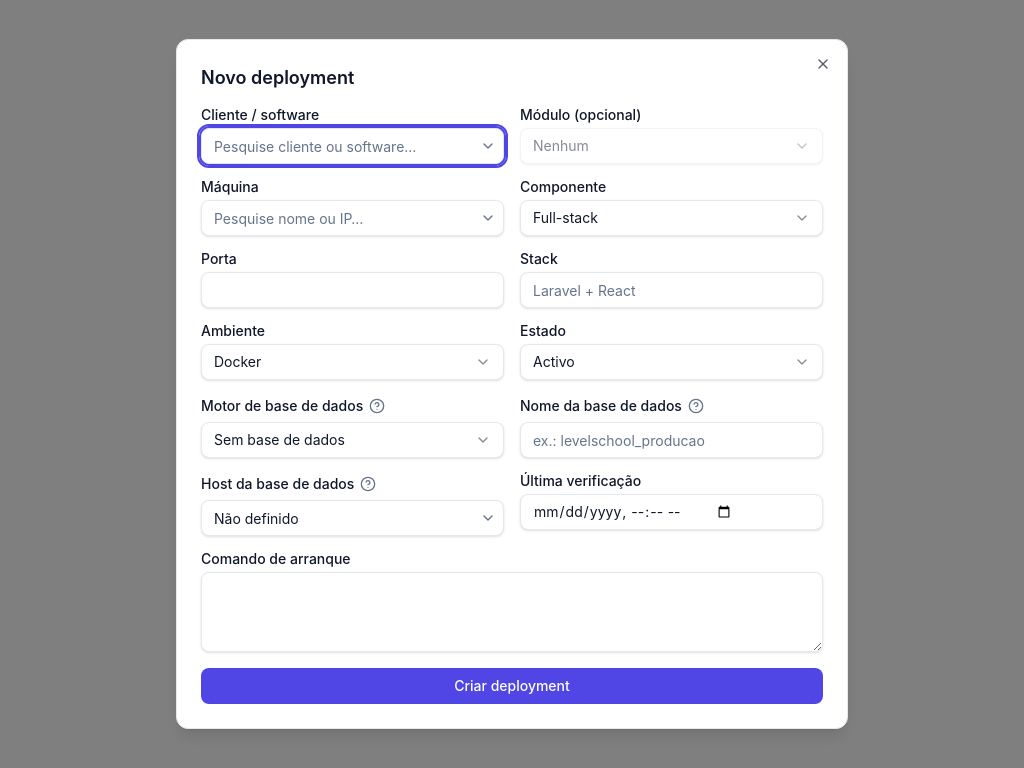
it: DeploymentFormDialog: base de dados › a máquina escolhe-se com pesquisa (lista longa)
This screenshot has width=1024, height=768.
In the dropdown labelled "Máquina": (352, 218) [201,200,504,236], type "10.10.10.25"
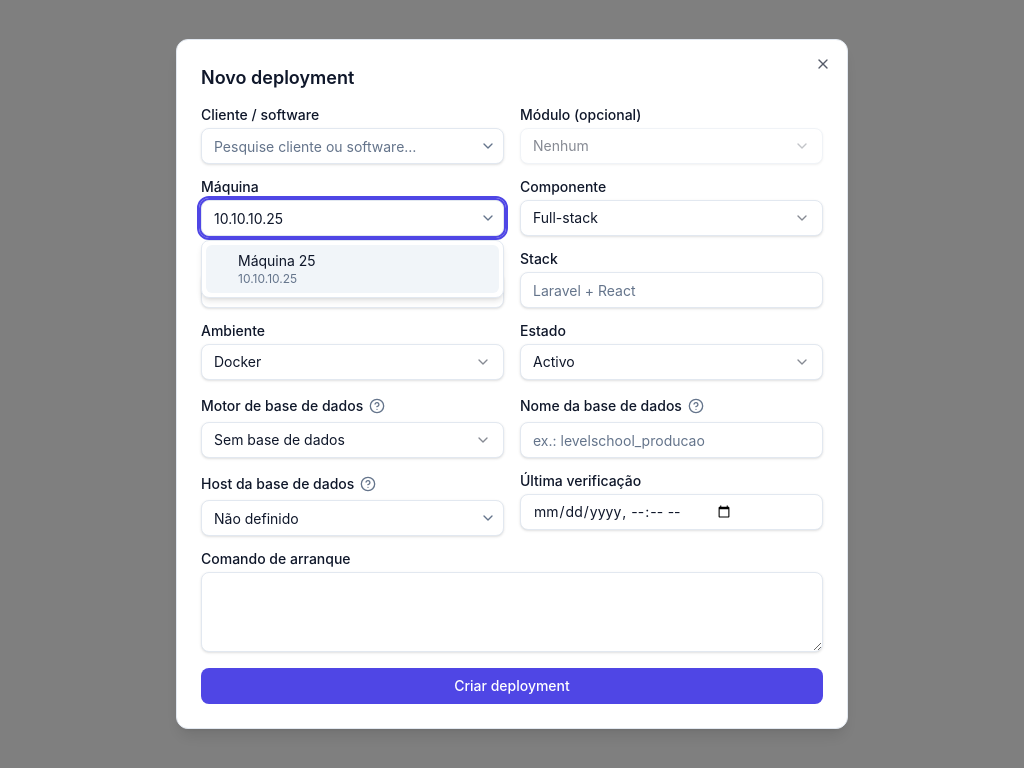
Click the option "Máquina 25 10.10.10.25": (277, 260) [206,245,499,293]
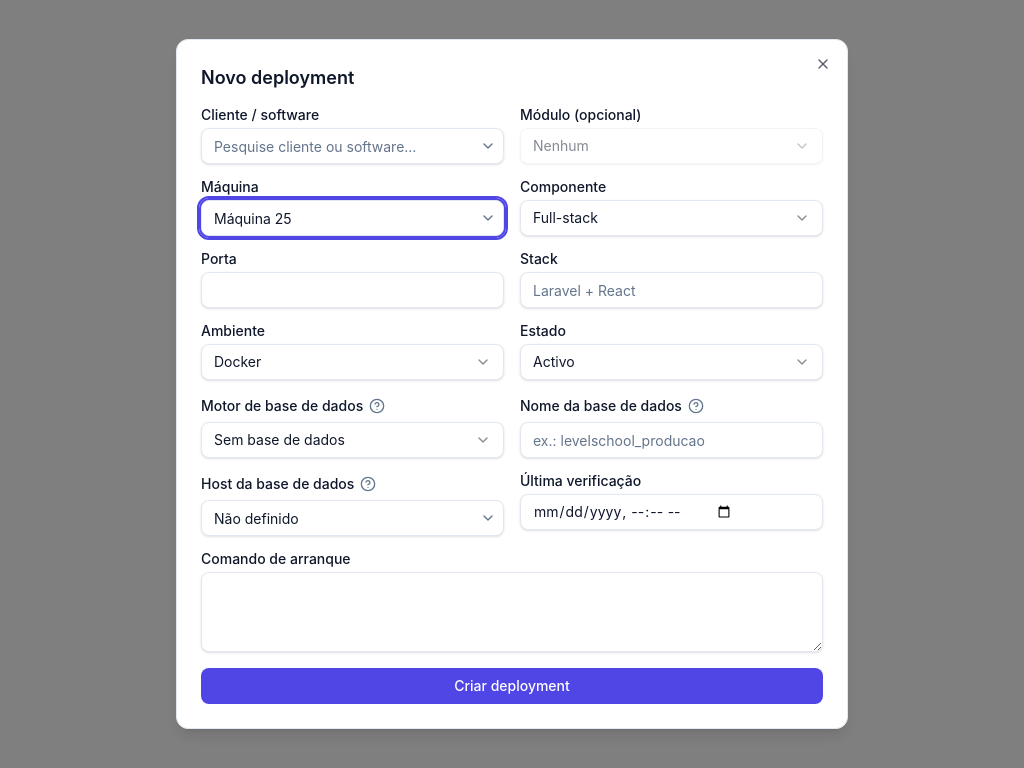
Expected: the dropdown labelled "Máquina" holds "Máquina 25", [201,200,504,236]
